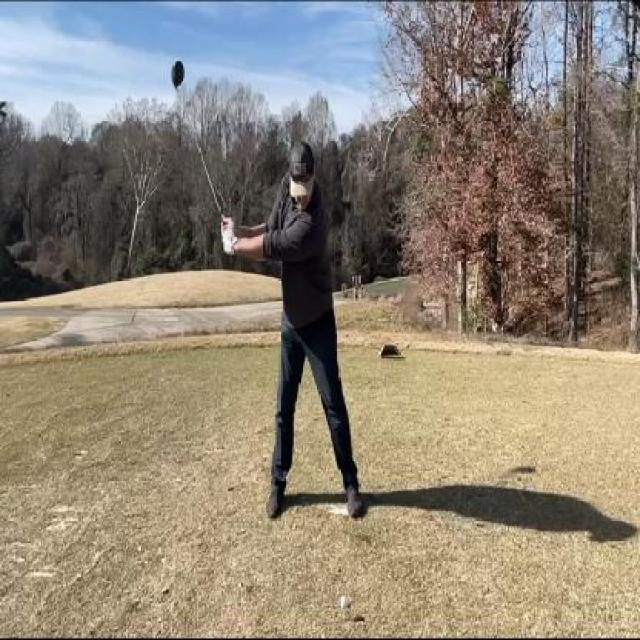club head: (168, 57, 186, 95)
